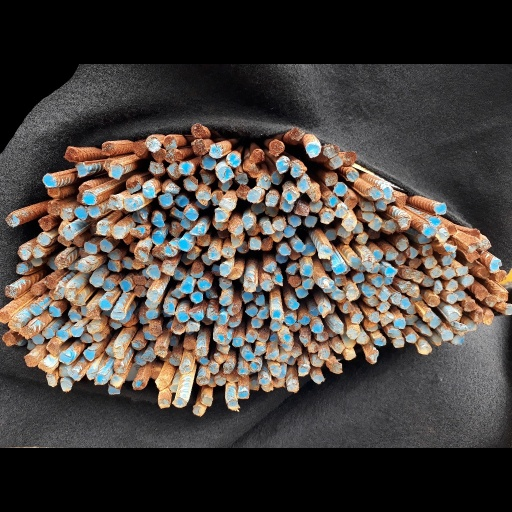dipstick: (215, 163, 233, 180), (64, 146, 80, 162), (307, 183, 320, 202), (145, 136, 160, 152), (108, 194, 123, 210), (283, 188, 300, 202), (192, 139, 207, 154), (249, 148, 264, 163), (269, 140, 284, 155), (201, 170, 216, 185), (95, 220, 110, 235), (134, 247, 148, 263), (276, 156, 289, 173), (305, 142, 320, 156), (123, 197, 138, 211), (214, 208, 229, 222), (220, 195, 234, 210), (228, 220, 243, 234), (160, 261, 175, 275), (142, 182, 155, 198), (122, 314, 138, 327), (227, 153, 241, 167), (158, 193, 172, 207), (133, 210, 147, 224), (247, 189, 261, 203), (86, 305, 100, 319), (343, 151, 357, 165), (342, 217, 356, 231), (191, 123, 204, 138), (289, 127, 304, 140), (74, 205, 87, 220), (126, 179, 141, 192), (168, 222, 181, 237), (162, 300, 175, 315), (167, 162, 179, 178), (361, 284, 377, 296), (148, 162, 165, 173), (101, 142, 115, 155), (210, 144, 223, 158), (42, 174, 56, 187), (47, 201, 60, 215), (236, 186, 249, 200), (257, 176, 270, 190), (4, 285, 18, 298), (146, 267, 160, 280), (334, 182, 347, 196), (320, 210, 334, 223), (319, 246, 333, 259), (397, 215, 410, 229), (178, 162, 193, 174), (152, 213, 164, 228), (290, 163, 302, 178), (297, 177, 309, 192), (38, 361, 53, 373), (436, 228, 448, 243), (323, 145, 339, 156), (163, 183, 180, 193), (133, 142, 146, 155), (165, 149, 178, 162), (38, 218, 51, 231), (60, 208, 73, 221), (87, 205, 100, 218), (184, 177, 197, 190), (2, 333, 15, 346), (47, 343, 60, 356), (190, 309, 203, 322), (261, 221, 274, 234), (272, 218, 285, 231), (334, 205, 347, 218), (163, 136, 177, 148), (201, 156, 215, 168), (76, 162, 88, 176), (5, 214, 19, 226), (62, 226, 74, 240), (36, 233, 50, 245), (83, 241, 97, 253), (266, 192, 278, 206), (196, 235, 210, 247), (59, 352, 73, 364), (24, 355, 38, 367), (58, 365, 72, 377), (168, 354, 182, 366), (219, 263, 231, 277), (288, 215, 302, 227), (351, 272, 365, 284), (381, 312, 393, 326), (366, 352, 380, 364), (364, 320, 378, 332), (190, 225, 205, 236), (152, 245, 163, 260), (137, 309, 148, 324), (231, 233, 242, 248), (452, 324, 467, 335), (211, 188, 221, 204), (129, 226, 145, 236), (110, 166, 123, 178), (197, 188, 210, 200), (185, 208, 198, 220), (112, 225, 124, 238), (17, 247, 30, 259), (99, 240, 112, 252), (107, 260, 120, 272), (151, 232, 163, 245), (280, 200, 293, 212), (295, 204, 308, 216), (64, 288, 76, 301), (164, 243, 176, 256), (147, 290, 160, 302), (133, 285, 146, 297), (150, 323, 162, 336), (183, 337, 196, 349), (244, 330, 257, 342), (257, 307, 270, 319), (329, 157, 342, 169), (301, 265, 314, 277), (378, 288, 390, 301), (421, 244, 434, 256), (383, 219, 396, 231), (434, 202, 446, 215), (424, 256, 436, 269), (446, 279, 458, 292), (180, 218, 194, 229), (251, 203, 265, 214), (110, 309, 124, 320), (29, 304, 43, 315), (41, 328, 55, 339), (113, 345, 124, 359), (131, 339, 145, 350), (175, 311, 189, 322), (396, 236, 407, 250), (418, 343, 432, 354), (382, 185, 393, 199), (489, 257, 500, 271), (185, 322, 200, 332), (325, 196, 340, 206), (90, 275, 102, 287), (119, 280, 131, 292), (187, 247, 199, 259), (191, 291, 203, 303), (60, 380, 72, 392), (111, 375, 123, 387), (114, 362, 126, 374), (206, 308, 218, 320), (228, 315, 240, 327), (228, 304, 240, 316), (249, 238, 261, 250), (305, 215, 317, 227), (325, 173, 337, 185), (372, 275, 384, 287), (343, 301, 355, 313), (362, 256, 374, 268), (393, 317, 405, 329), (369, 219, 381, 231), (444, 268, 456, 280), (461, 275, 473, 287), (478, 238, 490, 250), (152, 150, 165, 161), (55, 257, 68, 268), (247, 164, 258, 177), (242, 216, 253, 229), (178, 240, 191, 251), (68, 311, 81, 322), (48, 306, 61, 317), (8, 320, 21, 331), (55, 330, 68, 341), (70, 326, 83, 337), (145, 299, 158, 310), (95, 373, 106, 386), (133, 355, 146, 366), (213, 353, 226, 364), (242, 350, 255, 361), (230, 267, 241, 280), (243, 280, 256, 291), (261, 237, 272, 250), (356, 233, 369, 244), (302, 278, 315, 289), (288, 276, 301, 287), (318, 277, 331, 288), (408, 285, 419, 298), (402, 268, 415, 279), (395, 194, 406, 207), (423, 225, 436, 236), (477, 267, 490, 278), (466, 251, 479, 262), (47, 188, 61, 198), (174, 196, 188, 206), (179, 283, 193, 293), (142, 351, 156, 361), (173, 398, 187, 408), (227, 400, 241, 410), (264, 350, 278, 360), (219, 295, 233, 305), (366, 296, 380, 306), (361, 201, 375, 211), (484, 310, 493, 325), (236, 173, 248, 184), (32, 246, 43, 258), (30, 284, 41, 296), (44, 277, 56, 288), (102, 280, 114, 291), (208, 249, 220, 260), (20, 327, 32, 338), (32, 334, 44, 345), (45, 375, 56, 387), (84, 349, 95, 361), (156, 379, 168, 390), (192, 405, 204, 416), (214, 375, 226, 386), (213, 332, 225, 343), (219, 279, 231, 290), (222, 247, 234, 258), (346, 170, 358, 181), (325, 229, 337, 240), (287, 299, 299, 310), (298, 364, 309, 376), (331, 362, 343, 373), (335, 275, 347, 286), (368, 263, 380, 274), (420, 325, 432, 336), (406, 246, 417, 258), (345, 197, 356, 209), (370, 188, 382, 199), (427, 296, 439, 307), (464, 300, 476, 311), (469, 228, 481, 239), (497, 290, 508, 302), (271, 172, 281, 185), (133, 275, 146, 285), (190, 268, 203, 278), (108, 320, 121, 330), (132, 379, 145, 389), (154, 346, 167, 356), (172, 325, 185, 335), (195, 347, 208, 357), (226, 373, 239, 383), (286, 381, 299, 391), (261, 280, 274, 290), (278, 245, 291, 255), (295, 288, 308, 298), (299, 333, 309, 346), (312, 374, 325, 384), (350, 313, 363, 323), (385, 267, 398, 277), (343, 338, 356, 348), (405, 315, 418, 325), (409, 258, 422, 268), (429, 268, 442, 278), (387, 329, 403, 337), (171, 289, 185, 298), (86, 324, 100, 333), (79, 334, 93, 343), (331, 291, 345, 300), (443, 244, 457, 253), (451, 336, 465, 345), (173, 270, 184, 281), (158, 397, 169, 408), (208, 363, 219, 374), (257, 331, 268, 342), (237, 242, 248, 253), (271, 309, 282, 320), (284, 226, 295, 237), (310, 201, 321, 212), (349, 257, 360, 268), (303, 244, 314, 255), (319, 303, 330, 314), (369, 311, 380, 322), (467, 242, 478, 253), (16, 263, 28, 273), (75, 261, 87, 271), (198, 280, 210, 290), (0, 312, 10, 324), (168, 335, 178, 347), (197, 356, 209, 366), (247, 225, 259, 235), (245, 306, 257, 316), (333, 343, 345, 353), (324, 283, 336, 293), (378, 301, 390, 311), (395, 253, 405, 265), (344, 350, 356, 360), (400, 298, 410, 310), (400, 282, 412, 292), (414, 271, 424, 283), (375, 200, 387, 210), (418, 236, 433, 244), (476, 290, 488, 300), (486, 295, 496, 307), (58, 237, 71, 246), (99, 300, 112, 309), (179, 365, 192, 374), (196, 376, 209, 385), (205, 290, 218, 299), (333, 264, 346, 273), (311, 323, 324, 332), (346, 329, 359, 338), (356, 335, 369, 344), (455, 266, 468, 275), (447, 311, 460, 320), (122, 258, 132, 269), (74, 294, 84, 305), (146, 309, 157, 319), (202, 396, 213, 406), (223, 363, 233, 374), (249, 361, 260, 371), (282, 334, 293, 344), (270, 321, 281, 331), (272, 273, 282, 284), (294, 242, 305, 252), (347, 288, 357, 299), (391, 294, 401, 305), (386, 250, 397, 260), (405, 333, 416, 343), (442, 255, 453, 265), (422, 311, 433, 321), (430, 317, 441, 327), (447, 293, 457, 304), (495, 271, 506, 281), (103, 159, 112, 171), (171, 208, 183, 217), (108, 251, 120, 260), (266, 207, 278, 216), (70, 369, 79, 381), (218, 345, 230, 354), (238, 367, 250, 376), (256, 294, 265, 306), (264, 263, 276, 272), (298, 316, 310, 325), (316, 332, 328, 341), (334, 322, 343, 334), (374, 337, 386, 346), (362, 212, 374, 221), (422, 276, 434, 285), (432, 334, 441, 346), (475, 311, 484, 323), (213, 222, 228, 229), (144, 332, 157, 340), (73, 236, 83, 246), (15, 335, 25, 345), (249, 380, 259, 390), (217, 314, 227, 324), (272, 231, 282, 241), (308, 343, 318, 353), (318, 349, 328, 359), (373, 250, 383, 260), (406, 305, 416, 315), (56, 286, 65, 297), (202, 256, 213, 265), (86, 369, 95, 380), (237, 390, 248, 399), (242, 292, 253, 301), (251, 319, 262, 328), (270, 333, 279, 344), (287, 265, 298, 274), (354, 222, 363, 233), (309, 308, 320, 317), (393, 339, 404, 348), (429, 216, 440, 225), (434, 280, 441, 294), (30, 258, 42, 266), (108, 386, 120, 394), (261, 384, 273, 392), (338, 229, 350, 237), (284, 317, 296, 325), (312, 359, 324, 367), (258, 377, 271, 384), (26, 340, 35, 350), (93, 333, 103, 342), (233, 338, 243, 347), (255, 346, 265, 355), (343, 234, 352, 244), (448, 225, 457, 235), (442, 331, 452, 340), (218, 230, 229, 238), (105, 346, 113, 357), (467, 322, 478, 330), (276, 255, 288, 262), (289, 324, 301, 331), (271, 365, 280, 374), (58, 224, 66, 234), (212, 266, 220, 276), (274, 379, 285, 386), (278, 354, 289, 361), (282, 344, 293, 351), (48, 258, 54, 270), (170, 384, 178, 393), (280, 366, 286, 378), (323, 262, 331, 271), (504, 306, 512, 315), (129, 243, 136, 253), (182, 258, 192, 265), (458, 290, 465, 300), (124, 236, 132, 244), (209, 379, 216, 388), (384, 277, 393, 284), (80, 306, 86, 316), (288, 357, 295, 365), (142, 269, 147, 277), (330, 305, 334, 312)
